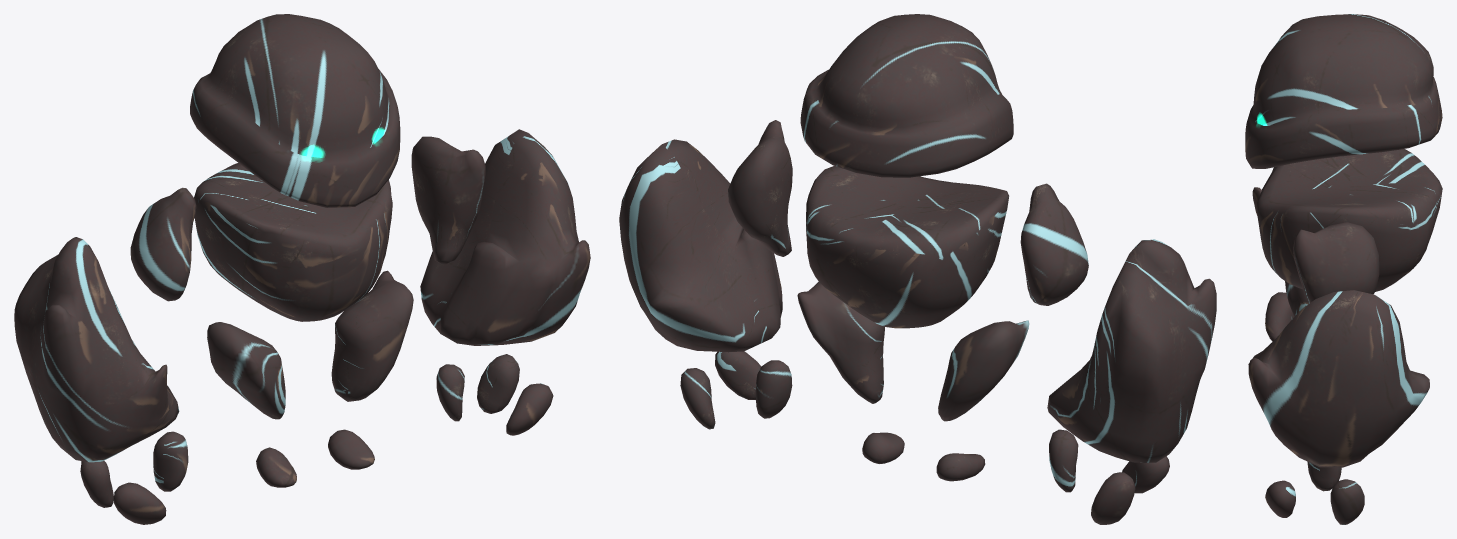
Rendered from Earth Golem.fbx.
The picture shows the model from 3 angles, left to right: view 1: azimuth 30°, elevation 25°; view 2: azimuth 150°, elevation 25°; view 3: azimuth 270°, elevation 25°; orthographic projection. The views are drawn at different scales.
Visible parts, largest first — view 1: Earth Golem Mesh; view 2: Earth Golem Mesh; view 3: Earth Golem Mesh.
Part boxes in pixels (x1,y1,x2,y2): Earth Golem Mesh: [14, 14, 590, 524]; Earth Golem Mesh: [619, 14, 1216, 524]; Earth Golem Mesh: [1245, 14, 1442, 524].
Bounding box in the file's own units: 300 × 233 × 100.
